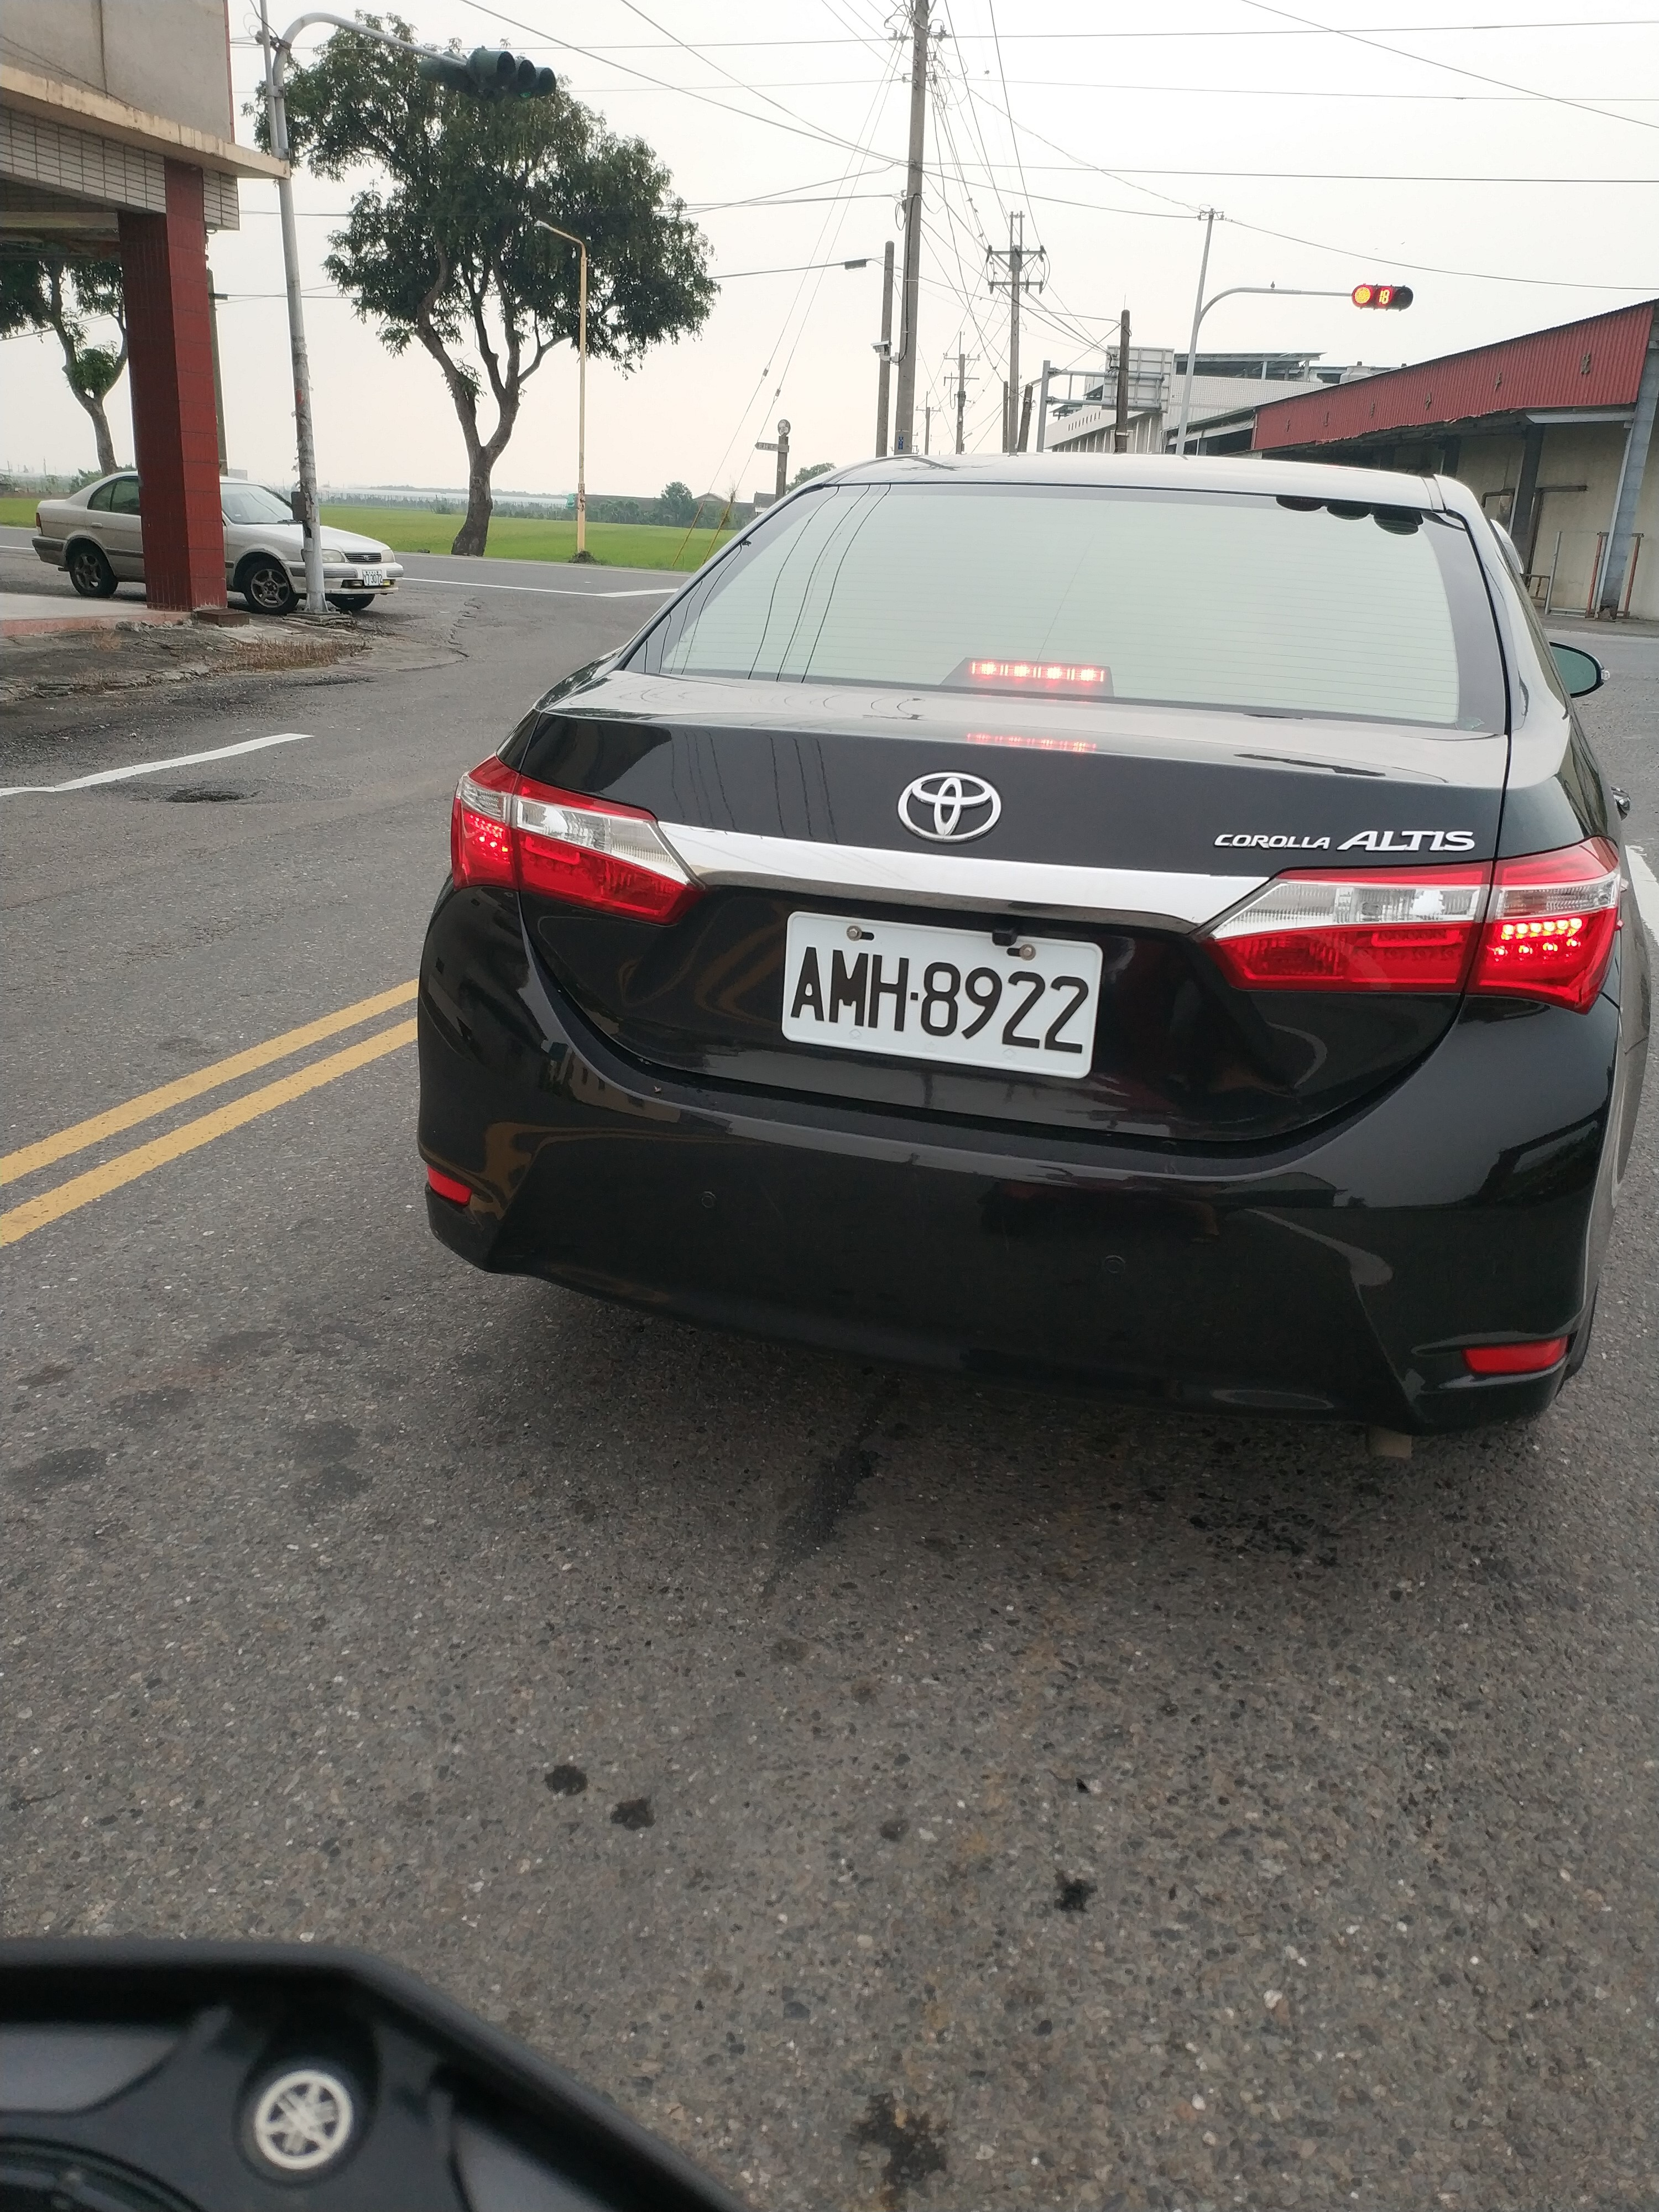car: (423, 394, 1619, 1444), (37, 477, 410, 632)
car_card: (782, 916, 1103, 1092)
